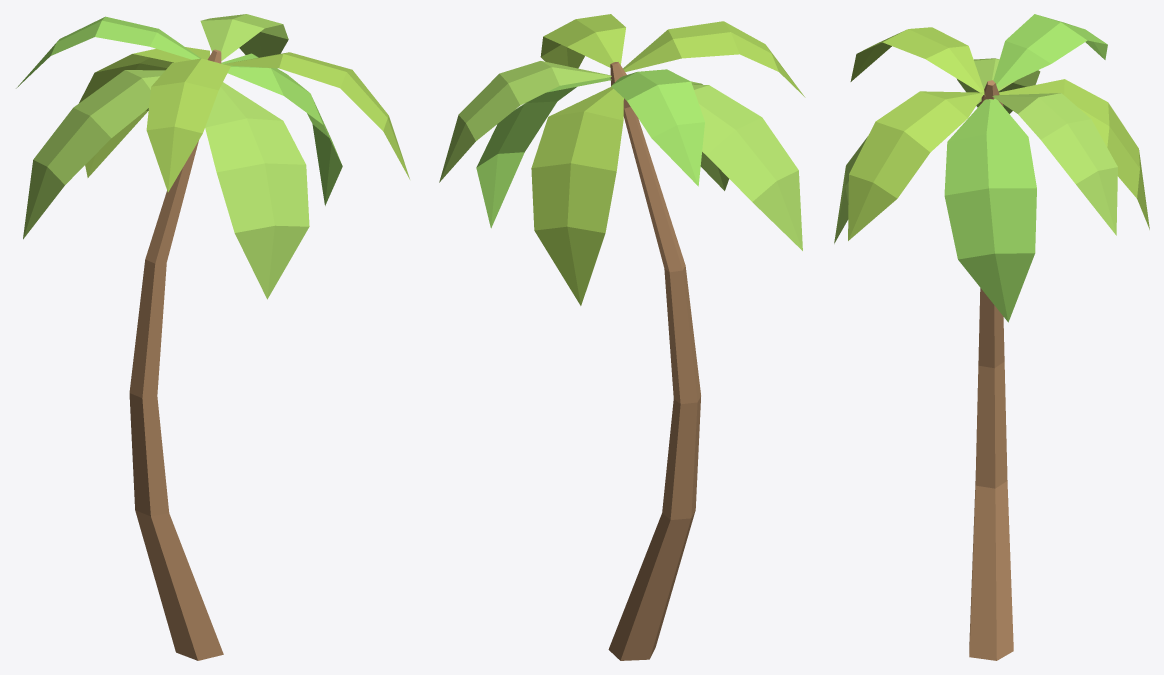
Rendered from Palm_Tree_OneSided_m_03_LOD.fbx.
The picture shows the model from 3 angles, left to right: view 1: azimuth 30°, elevation 25°; view 2: azimuth 150°, elevation 25°; view 3: azimuth 270°, elevation 25°; orthographic projection. The views are drawn at different scales.
Visible parts, largest first — view 1: Palm_Tree_OneSided_m_03_LOD0; view 2: Palm_Tree_OneSided_m_03_LOD0; view 3: Palm_Tree_OneSided_m_03_LOD0.
Boxes of the visible parts, bbox=[...] form: Palm_Tree_OneSided_m_03_LOD0: bbox=[16, 14, 409, 660]; Palm_Tree_OneSided_m_03_LOD0: bbox=[439, 14, 805, 660]; Palm_Tree_OneSided_m_03_LOD0: bbox=[834, 14, 1149, 660].
Size of what is drawn, in the model's own units: 301 by 563 by 269.
